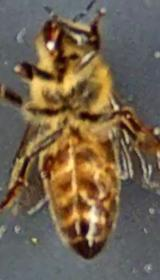varroa_mite: (33, 143, 61, 182)
